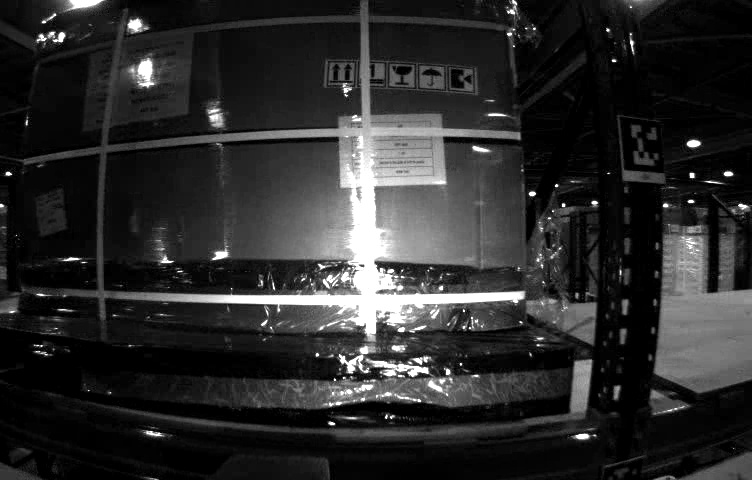True Barcode: (34, 189, 67, 235)
